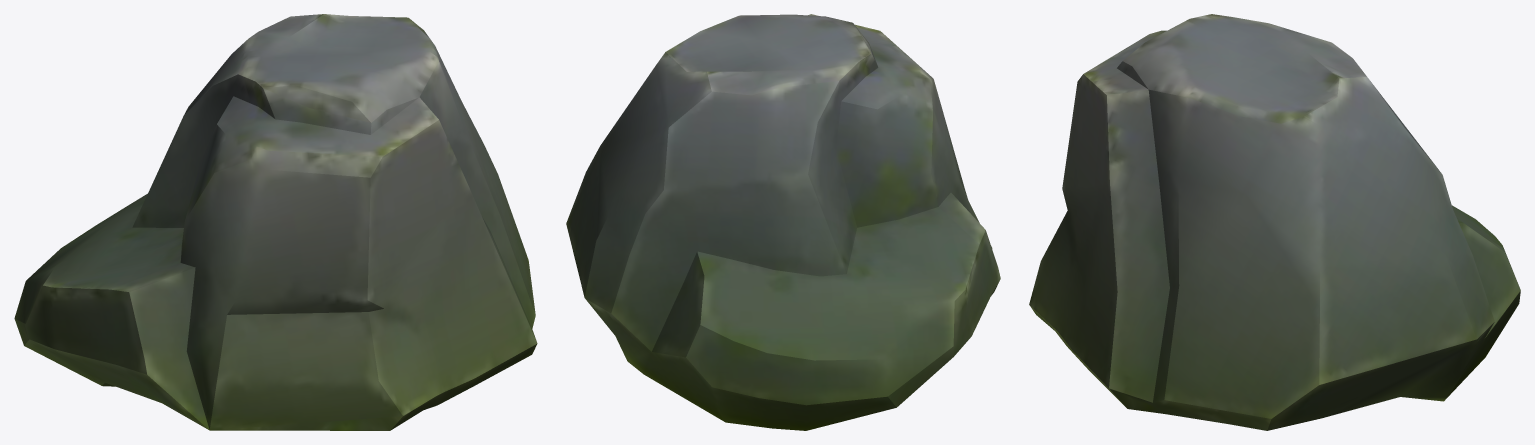
Rendered from Rock_Medium_1.gltf.
3 views of the same model, side by side, from view 1: azimuth 30°, elevation 25°; view 2: azimuth 150°, elevation 25°; view 3: azimuth 270°, elevation 25° (orthographic). The views are drawn at different scales.
Parts seen in each view (by area): view 1: Rock_Medium_1; view 2: Rock_Medium_1; view 3: Rock_Medium_1.
Boxes of the visible parts, x1,y1,x2,y2 form: Rock_Medium_1: (14, 14, 537, 430); Rock_Medium_1: (566, 14, 1000, 430); Rock_Medium_1: (1029, 14, 1520, 430).
Size of the model in its own units: 3.23 by 2.26 by 2.99.
Materials: 1 (1 with a texture image).
